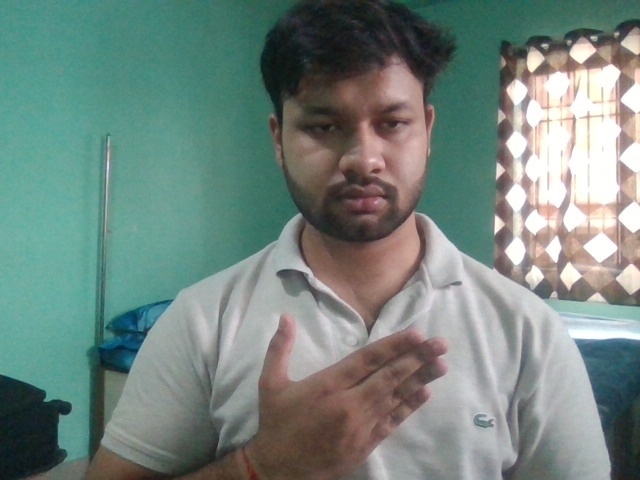Please: (253, 311, 451, 478)
